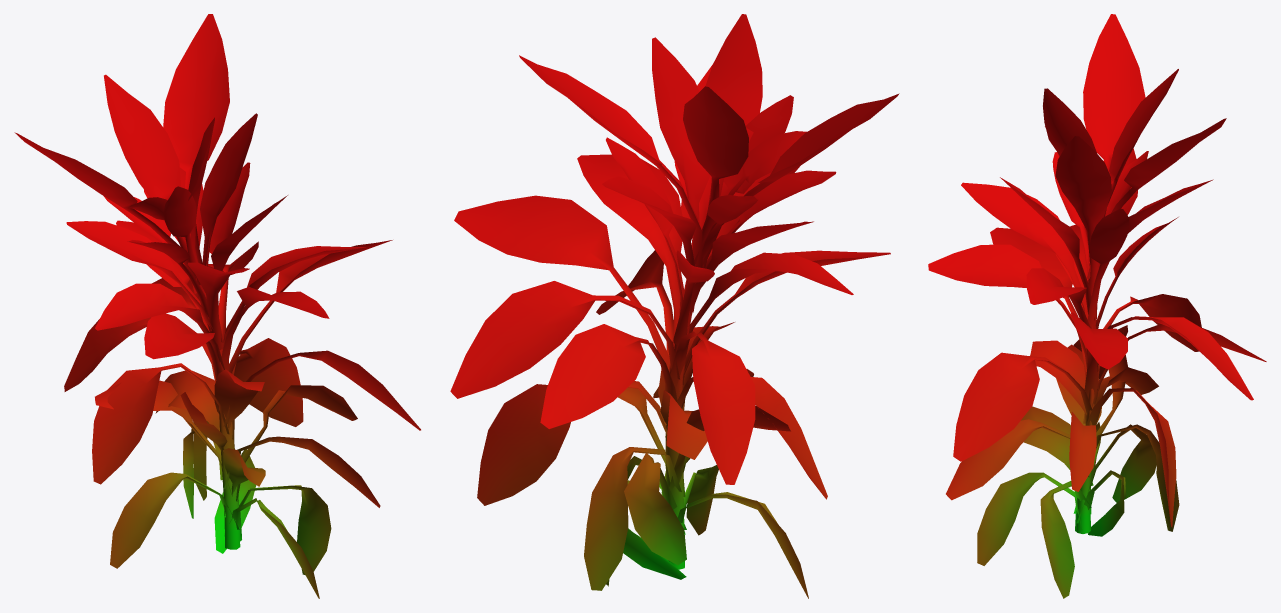
The model's file is Spotted Dumbcane_LOD1_Var4_sjBmG.fbx.
The picture shows the model from 3 angles, left to right: view 1: azimuth 30°, elevation 25°; view 2: azimuth 150°, elevation 25°; view 3: azimuth 270°, elevation 25°; orthographic projection. The views are drawn at different scales.
Visible parts, largest first — view 1: _5feb_Var4_LOD1; view 2: _5feb_Var4_LOD1; view 3: _5feb_Var4_LOD1.
Part boxes in pixels (x1,y1,x2,y2): _5feb_Var4_LOD1: (14,14,420,598); _5feb_Var4_LOD1: (450,14,899,598); _5feb_Var4_LOD1: (928,14,1266,598).
Bounding box in the file's own units: 73.45 × 95.08 × 61.54.
